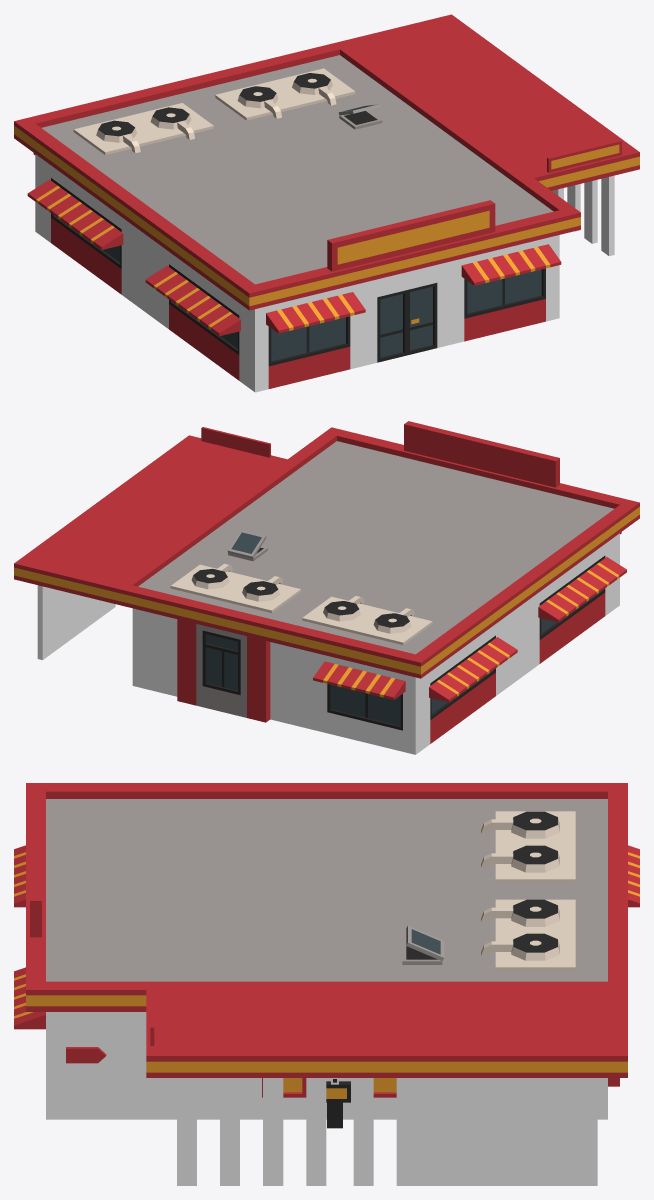
File: buildings_building-burger-joint.fbx
3 views of the same model, one above another, from view 1: azimuth 30°, elevation 25°; view 2: azimuth 150°, elevation 25°; view 3: azimuth 270°, elevation 25° (orthographic). The views are drawn at different scales.
Parts seen in each view (by area): view 1: buildings_building_burger_joint; view 2: buildings_building_burger_joint; view 3: buildings_building_burger_joint.
Boxes of the visible parts, x1,y1,x2,y2 form: buildings_building_burger_joint: (14,14,639,392); buildings_building_burger_joint: (14,421,639,754); buildings_building_burger_joint: (14,783,639,1185).
Bounding box in the file's own units: 200 × 58.54 × 190.
